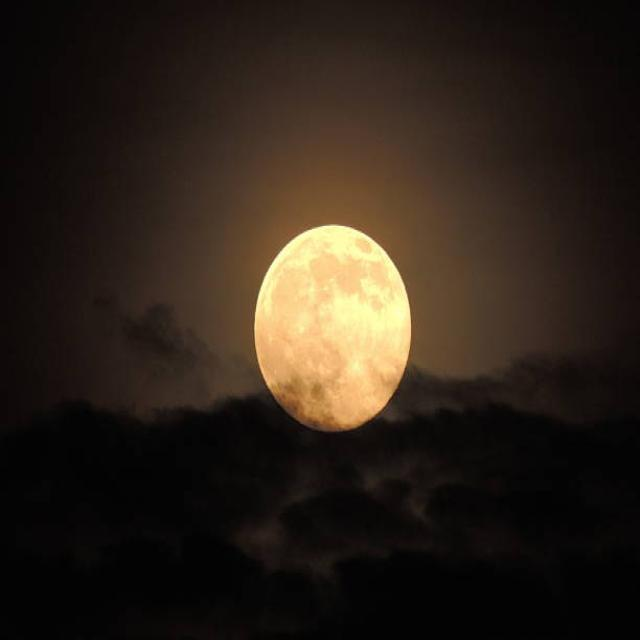moon: (256, 224, 414, 433)
